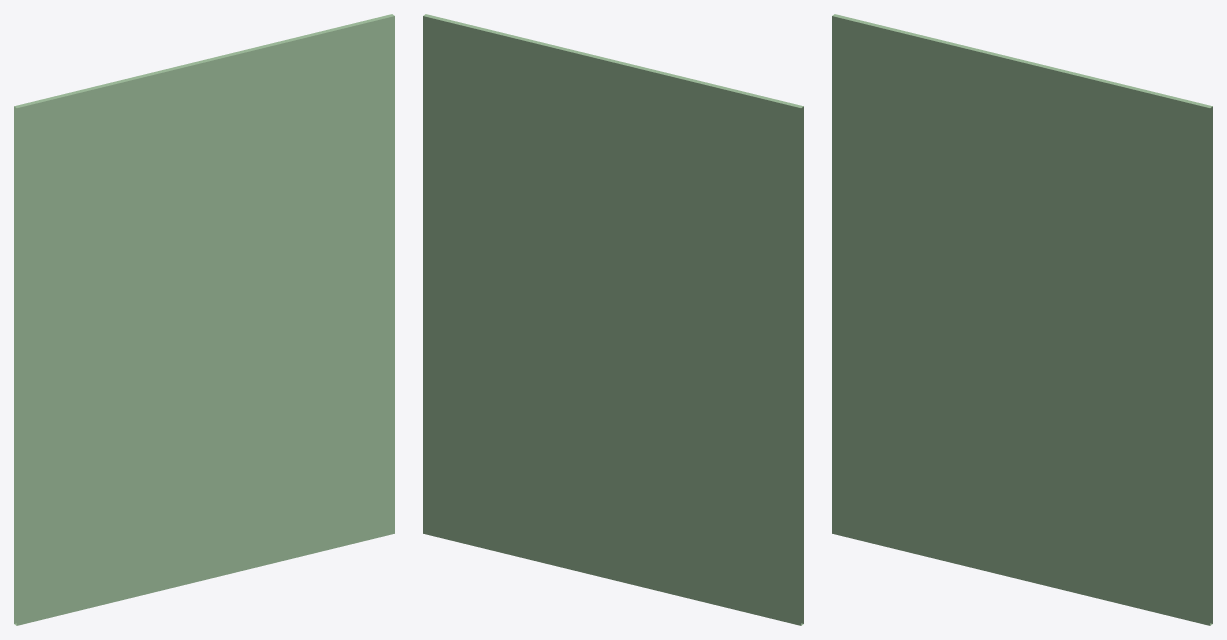
The model's file is Bathroom_Door.fbx.
3 renders of one model, left to right at view 1: azimuth 30°, elevation 25°; view 2: azimuth 150°, elevation 25°; view 3: azimuth 330°, elevation 25°, orthographic.
Parts seen in each view (by area): view 1: Bathroom_Door; view 2: Bathroom_Door; view 3: Bathroom_Door.
Boxes of the visible parts, x1,y1,x2,y2 form: Bathroom_Door: (14, 14, 394, 625); Bathroom_Door: (423, 14, 803, 625); Bathroom_Door: (832, 14, 1212, 625).
Bounding box in the file's own units: 148 × 194 × 1.87.
